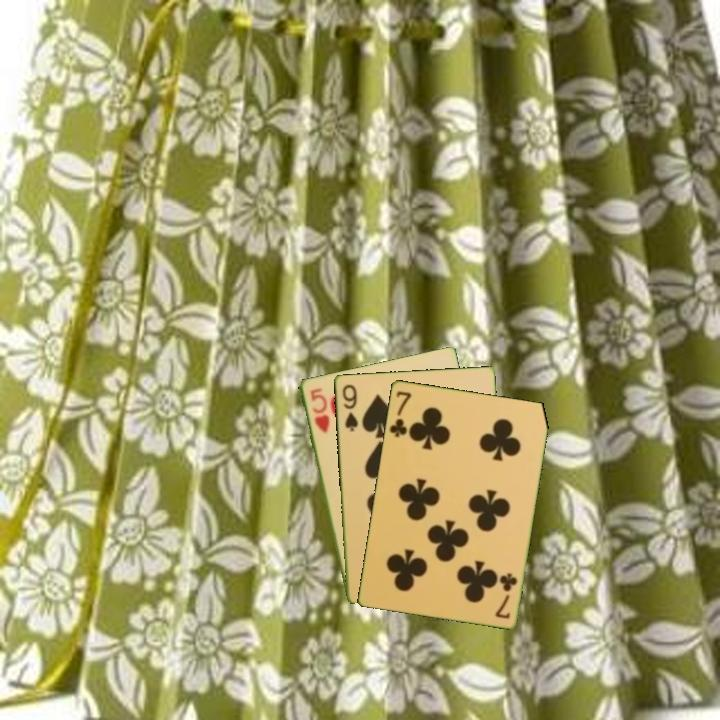5h: (306, 384, 332, 436)
7c: (491, 569, 520, 621), (386, 387, 414, 440)
9s: (339, 381, 361, 434)
